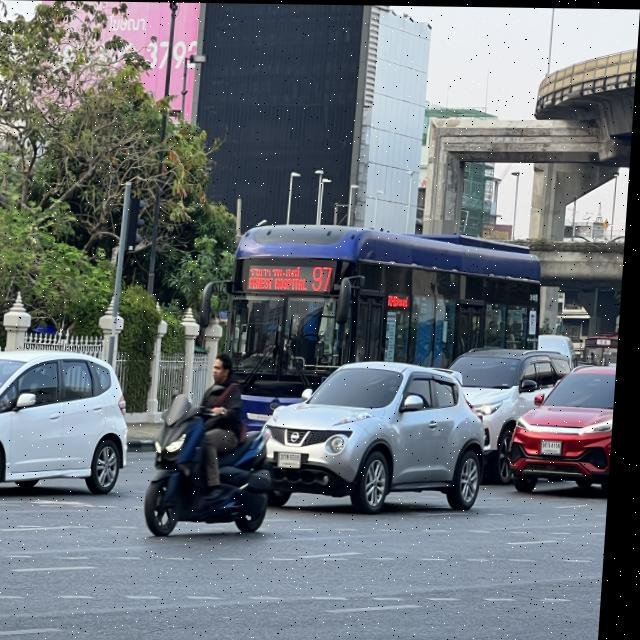Bus Line Number: (313, 259, 339, 297)
Destination Sign: (250, 264, 314, 294)
TSB-Bus: (225, 223, 545, 431)
